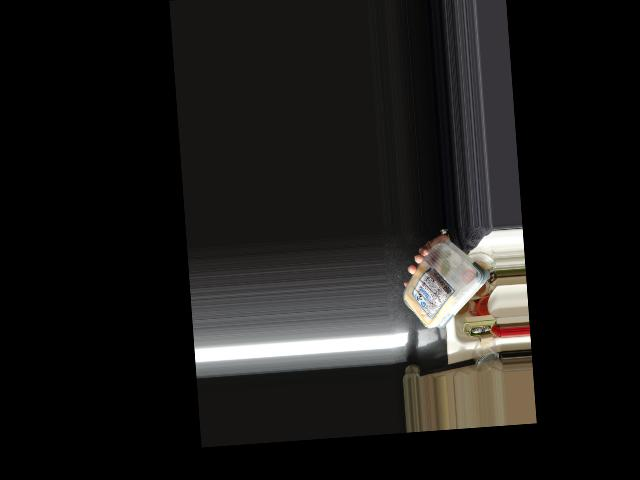cheese: (404, 238, 480, 331)
